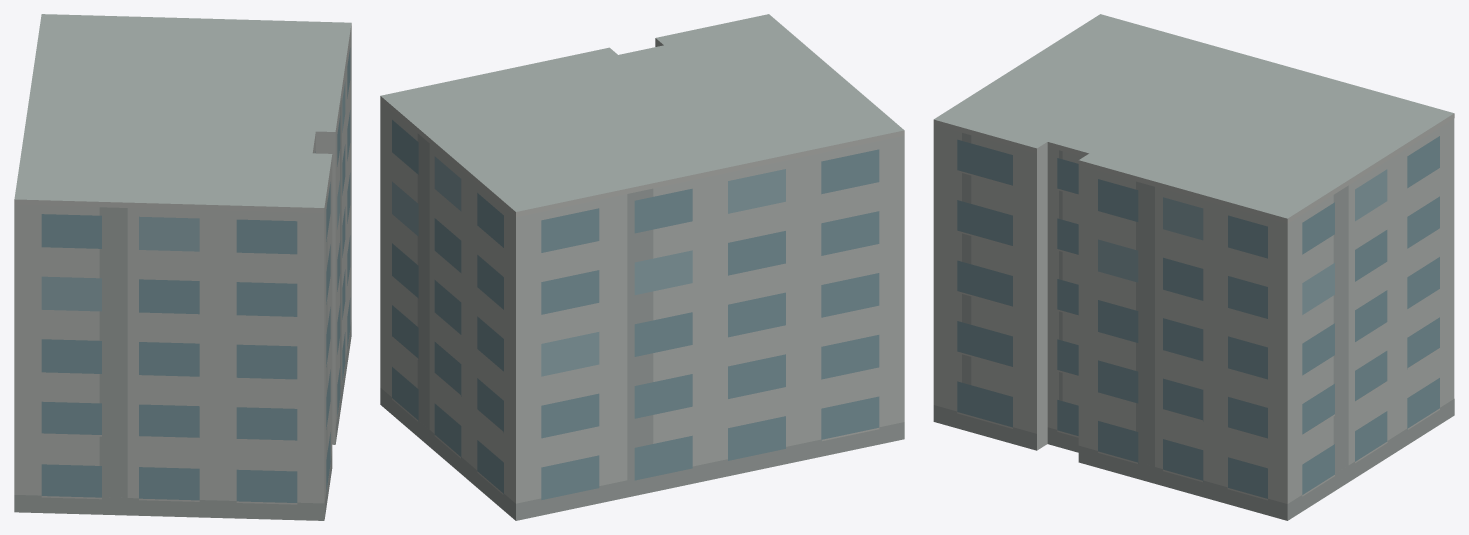
File: survey-upis-33043000.glb
3 renders of one model, left to right at view 1: azimuth 30°, elevation 25°; view 2: azimuth 150°, elevation 25°; view 3: azimuth 270°, elevation 25°, orthographic. The views are drawn at different scales.
Parts seen in each view (by area): view 1: survey-upis-33043000.tmp; view 2: survey-upis-33043000.tmp; view 3: survey-upis-33043000.tmp.
Part boxes in pixels (left/top/right/bottom): survey-upis-33043000.tmp: left=14, top=14, right=351, bottom=520; survey-upis-33043000.tmp: left=380, top=14, right=904, bottom=520; survey-upis-33043000.tmp: left=933, top=14, right=1454, bottom=520.
Bounding box in the file's own units: 20.34 × 14 × 21.87.
